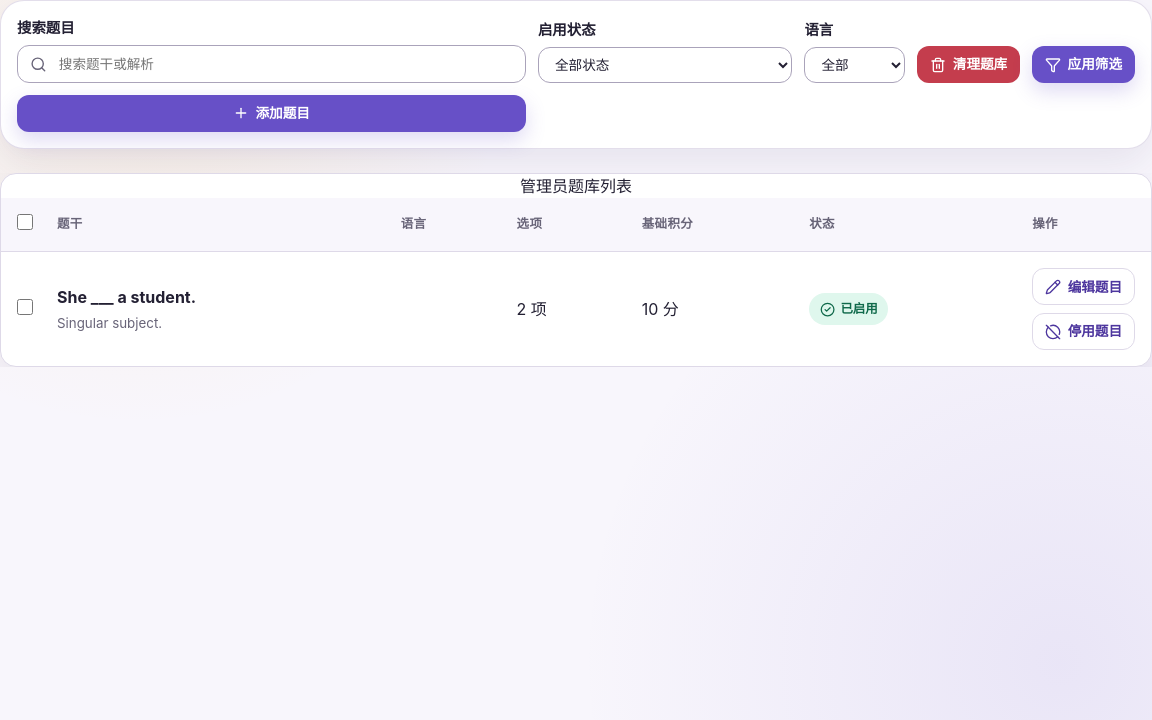
Test: 管理员运营页面 › 题库停用失败保留确认弹窗并展示错误
The image size is (1152, 720).
Click the button "停用题目". click: (1084, 332)
box: [1032,313,1135,350]
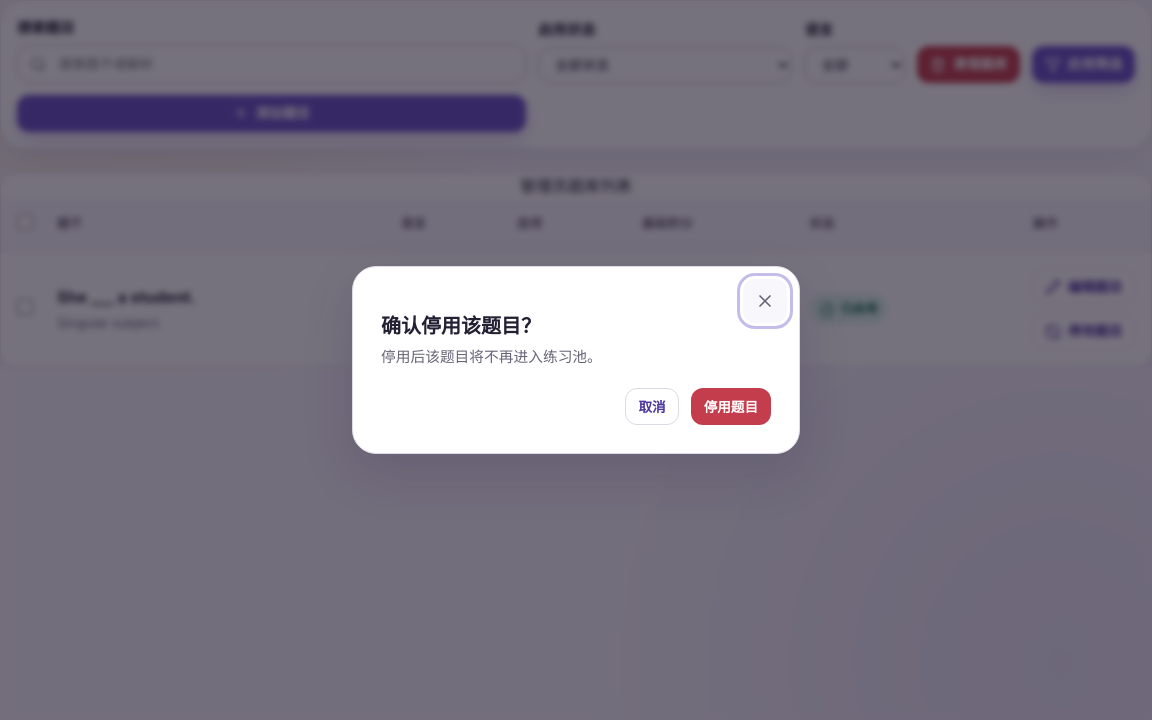
Click the button "停用题目". click: (731, 407)
box: [691,388,771,425]
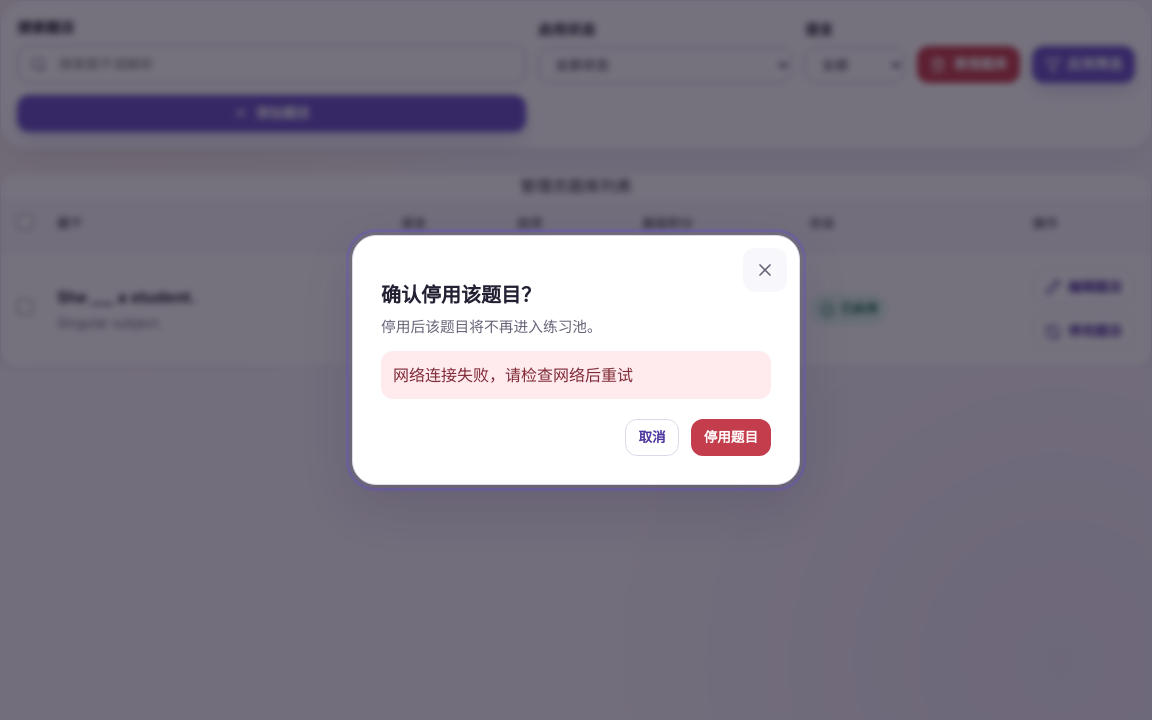
expect the dialog "确认停用该题目？" is shown: met, box [352,235,800,485]
expect the message reads "网络连接失败，请检查网络后重试": met, box [393,365,633,385]
